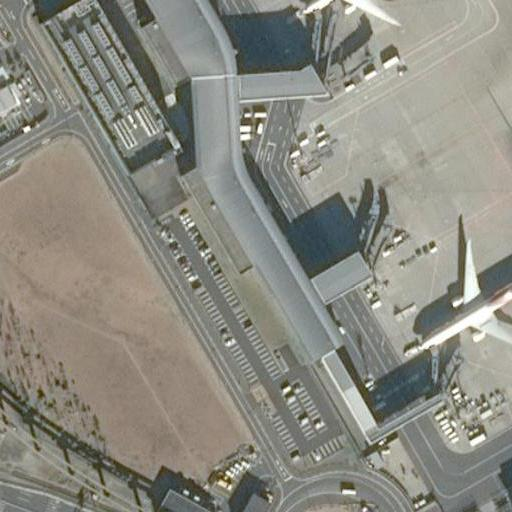Aircraft: (403, 223, 512, 356), (291, 0, 417, 31)
